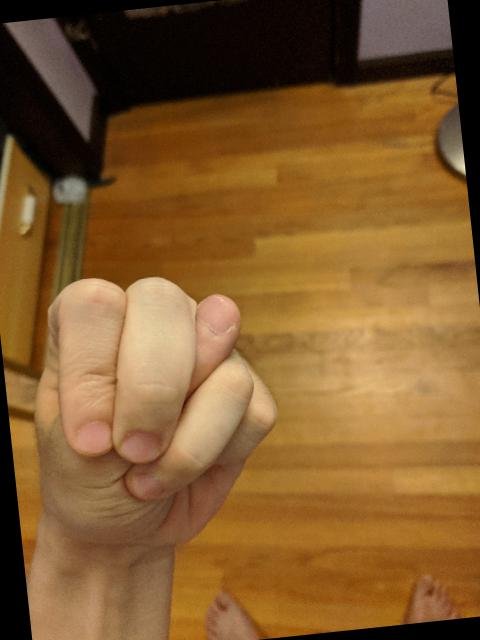N: (13, 253, 298, 570)
